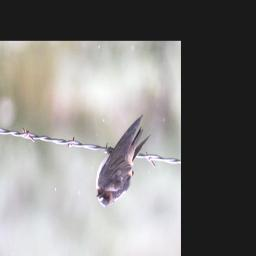Swallow: (95, 114, 152, 209)
